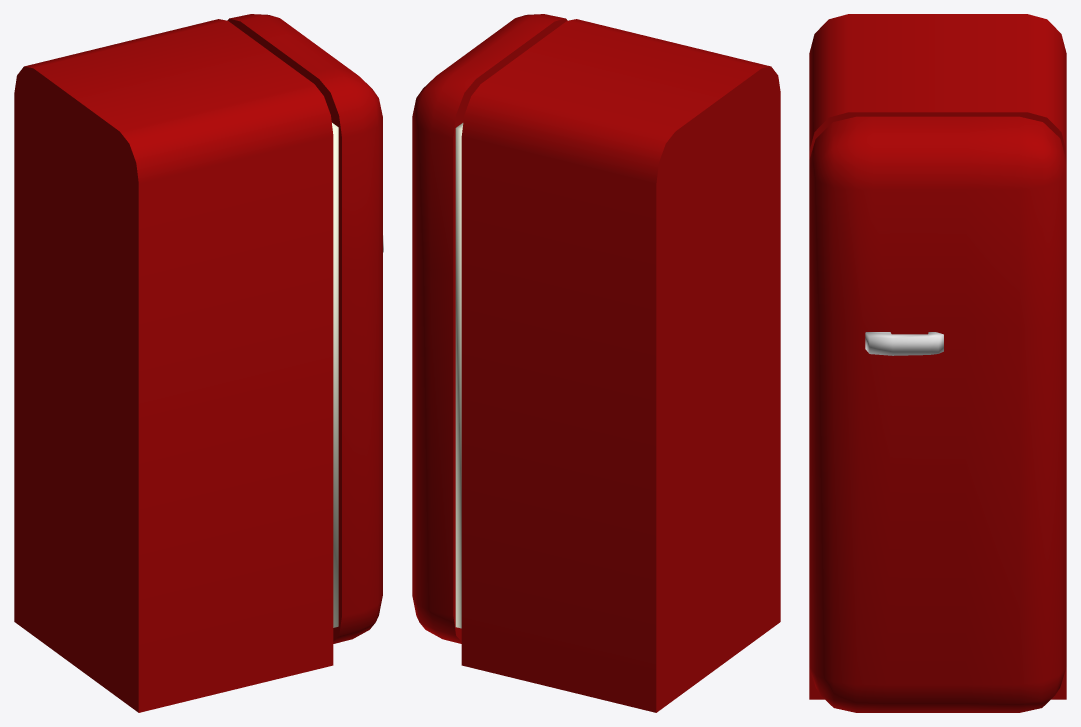
The model's file is lowPolyFridge.fbx.
The picture shows the model from 3 angles, left to right: view 1: azimuth 30°, elevation 25°; view 2: azimuth 150°, elevation 25°; view 3: azimuth 270°, elevation 25°; orthographic projection. The views are drawn at different scales.
Visible parts, largest first — view 1: low, Door.001, Door joint.001; view 2: low, Door.001, Door joint.001; view 3: Door.001, low.
Boxes of the visible parts, x1,y1,x2,y2 form: low: (14, 19, 333, 712); Door.001: (227, 14, 383, 643); Door joint.001: (332, 123, 338, 627); low: (461, 19, 780, 712); Door.001: (412, 14, 567, 643); Door joint.001: (455, 123, 463, 628); Door.001: (809, 116, 1066, 712); low: (809, 14, 1066, 699).
Size of the model in its own units: 0.7725 by 1.51 by 0.6.
